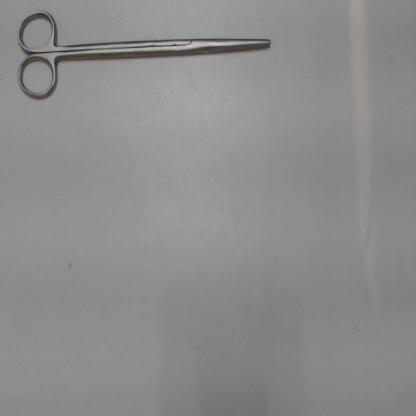9 Metzenbaum Scissors: (12, 5, 270, 104)
